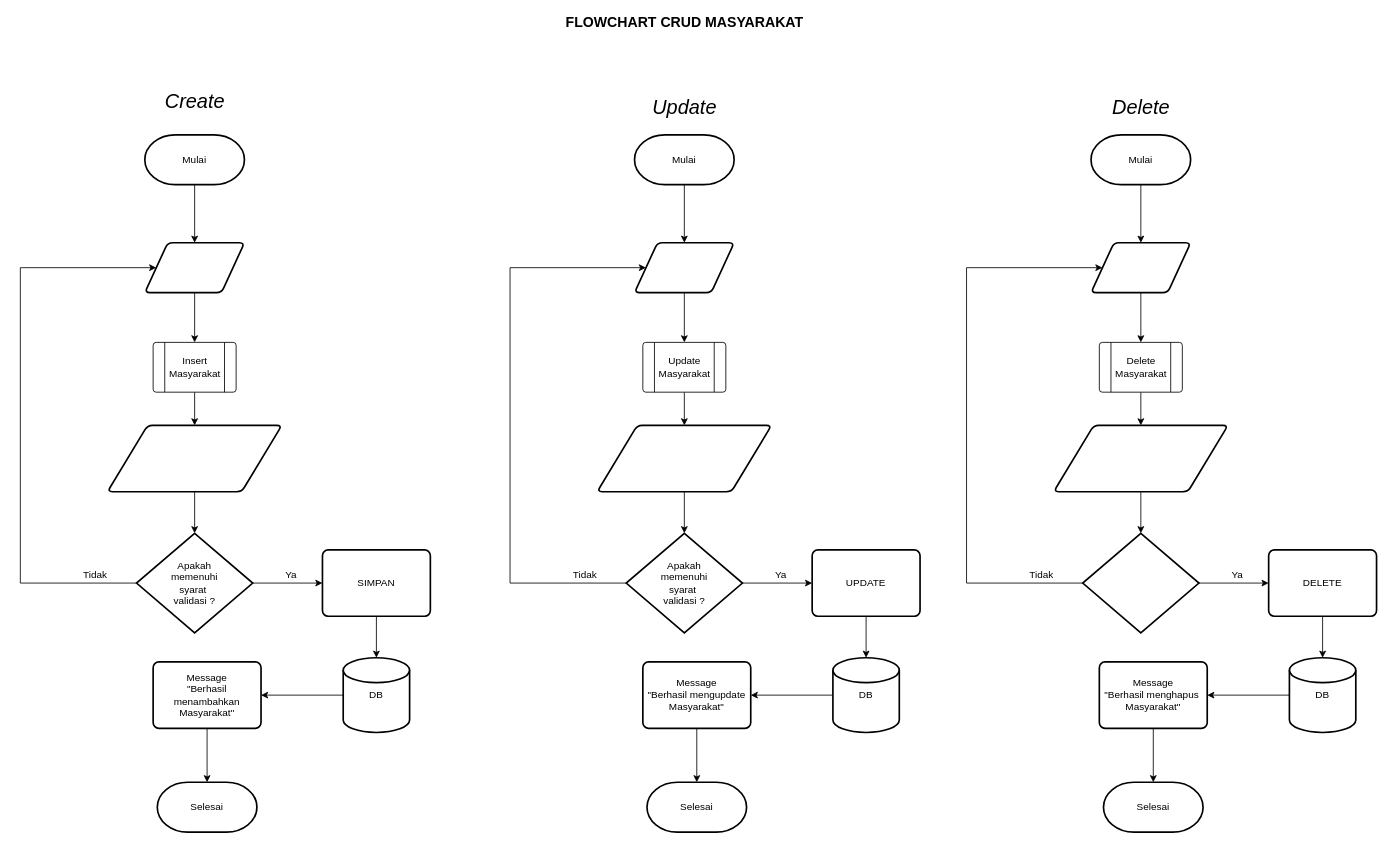
Some shapes in this 1392 by 847 pixel diagram are drawn without their labels. Each missing label, with the centre of its shape:
Halaman Data Masyarakat: point (1140, 267)
Halaman Edit Masyarakat: point (684, 267)
Halaman Tambah Masyarakat: point (194, 267)
Masukkan Nama Lengkap, Username, Password Telpon, NIK dan Alamat: point (194, 458)
Select NIK Masyarakat: point (1140, 458)
Ubah Nama Lengkap, Username, Password Telpon, NIK atau Alamat: point (684, 458)
Yakin akan didelete ?: point (1140, 582)
